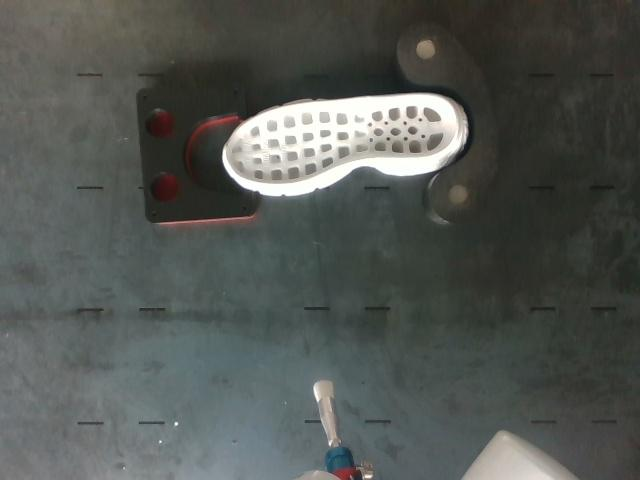shoes: (224, 94, 458, 184)
